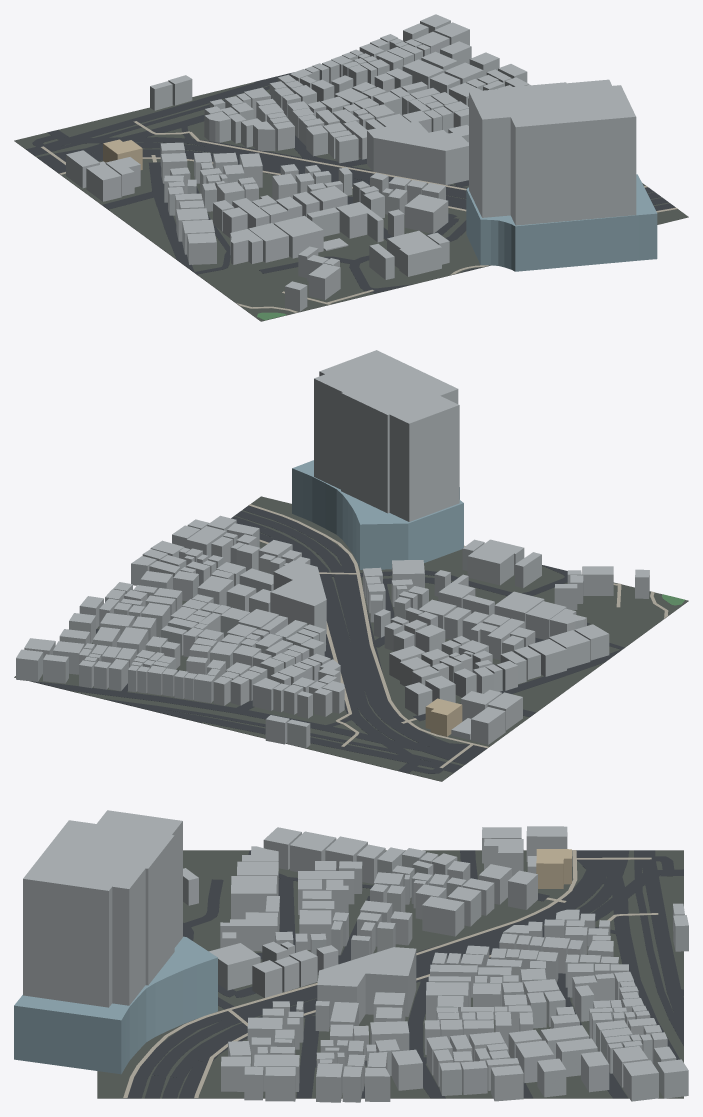
File: tile_001_009.glb
3 views of the same model, one above another, from view 1: azimuth 30°, elevation 25°; view 2: azimuth 150°, elevation 25°; view 3: azimuth 270°, elevation 25° (orthographic). The views are drawn at different scales.
Parts seen in each view (by area): view 1: tile_001_009_buildings_neutral, tile_001_009_ground, tile_001_009_roads, tile_001_009_buildings_office, tile_001_009_paths, tile_001_009_buildings_retail; view 2: tile_001_009_buildings_neutral, tile_001_009_roads, tile_001_009_ground, tile_001_009_buildings_office, tile_001_009_paths, tile_001_009_buildings_retail; view 3: tile_001_009_buildings_neutral, tile_001_009_roads, tile_001_009_ground, tile_001_009_buildings_office, tile_001_009_paths, tile_001_009_buildings_retail.
Boxes of the visible parts, x1=… form: tile_001_009_buildings_neutral: x1=66, y1=14, x2=636, y2=311; tile_001_009_ground: x1=14, y1=82, x2=688, y2=321; tile_001_009_roads: x1=26, y1=72, x2=675, y2=293; tile_001_009_buildings_office: x1=466, y1=174, x2=657, y2=271; tile_001_009_paths: x1=41, y1=121, x2=677, y2=312; tile_001_009_buildings_retail: x1=103, y1=139, x2=142, y2=169; tile_001_009_buildings_neutral: x1=16, y1=350, x2=649, y2=748; tile_001_009_roads: x1=32, y1=505, x2=624, y2=773; tile_001_009_ground: x1=14, y1=496, x2=688, y2=781; tile_001_009_buildings_office: x1=292, y1=460, x2=463, y2=569; tile_001_009_paths: x1=248, y1=504, x2=668, y2=768; tile_001_009_buildings_retail: x1=425, y1=698, x2=462, y2=736; tile_001_009_buildings_neutral: x1=23, y1=810, x2=688, y2=1102; tile_001_009_roads: x1=127, y1=850, x2=683, y2=1098; tile_001_009_ground: x1=97, y1=850, x2=683, y2=1098; tile_001_009_buildings_office: x1=14, y1=936, x2=217, y2=1074; tile_001_009_paths: x1=123, y1=850, x2=658, y2=1097; tile_001_009_buildings_retail: x1=536, y1=849, x2=571, y2=888.
Bounding box in the file's own units: 255 × 80.46 × 288.
